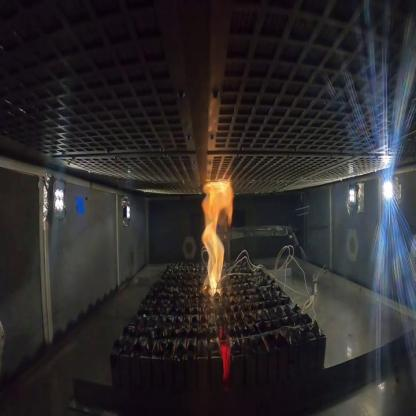fire: (199, 178, 235, 298)
